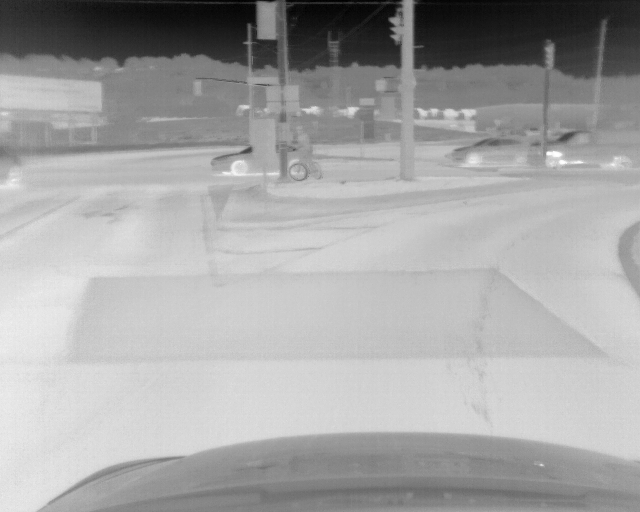bike: (288, 146, 322, 181)
car: (526, 129, 640, 170), (211, 145, 307, 176), (452, 136, 530, 164), (1, 138, 21, 186)
people: (290, 124, 318, 172)
